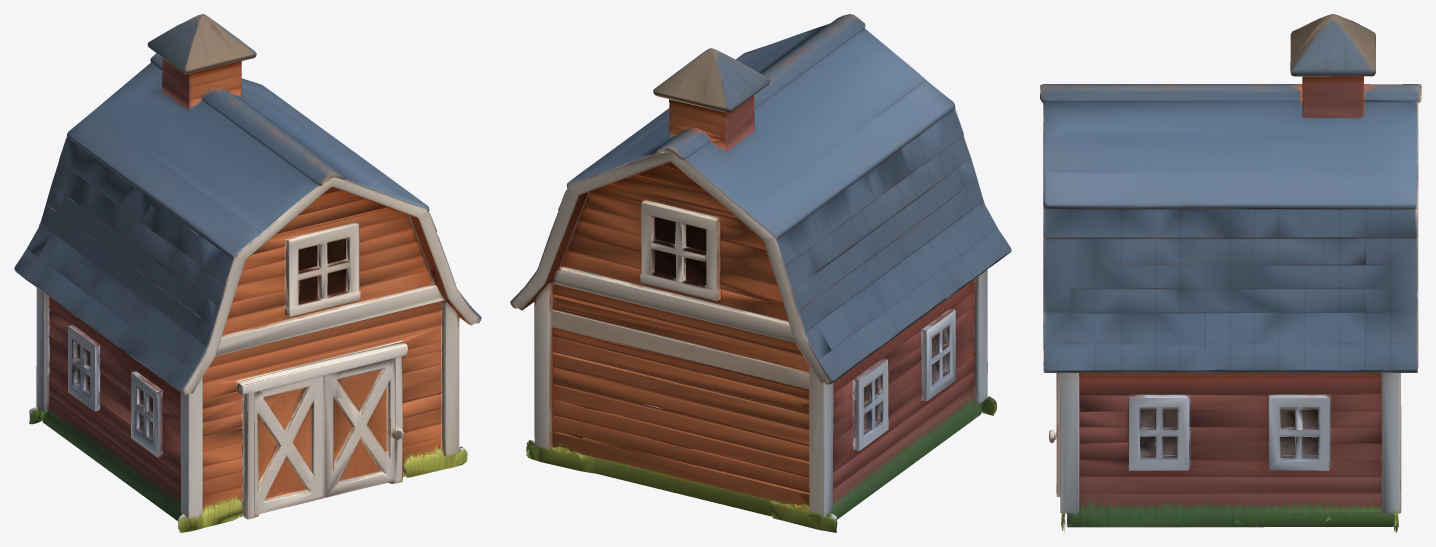
File: barn.glb
3 renders of one model, left to right at view 1: azimuth 30°, elevation 25°; view 2: azimuth 150°, elevation 25°; view 3: azimuth 270°, elevation 25°, orthographic. The views are drawn at different scales.
Parts seen in each view (by area): view 1: node_0; view 2: node_0; view 3: node_0.
Part boxes in pixels (bbox=[...]): node_0: bbox=[14, 14, 481, 532]; node_0: bbox=[510, 14, 1011, 532]; node_0: bbox=[1040, 14, 1421, 532].
Size of the model in its own units: 0.6712 by 0.8418 by 0.6605.
Materials: 1 (1 with a texture image).
